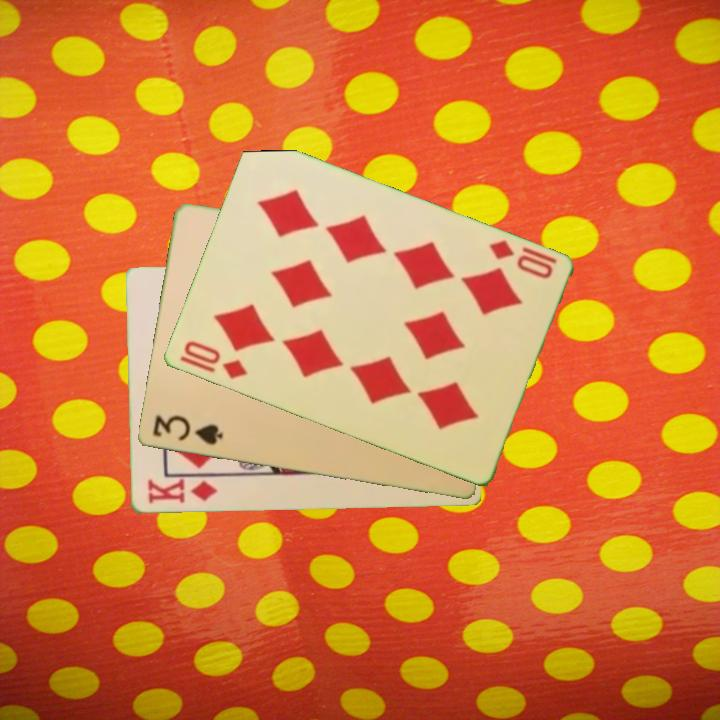10d: (175, 337, 250, 383), (484, 236, 556, 282)
3s: (148, 412, 226, 449)
Kd: (144, 475, 220, 507)
